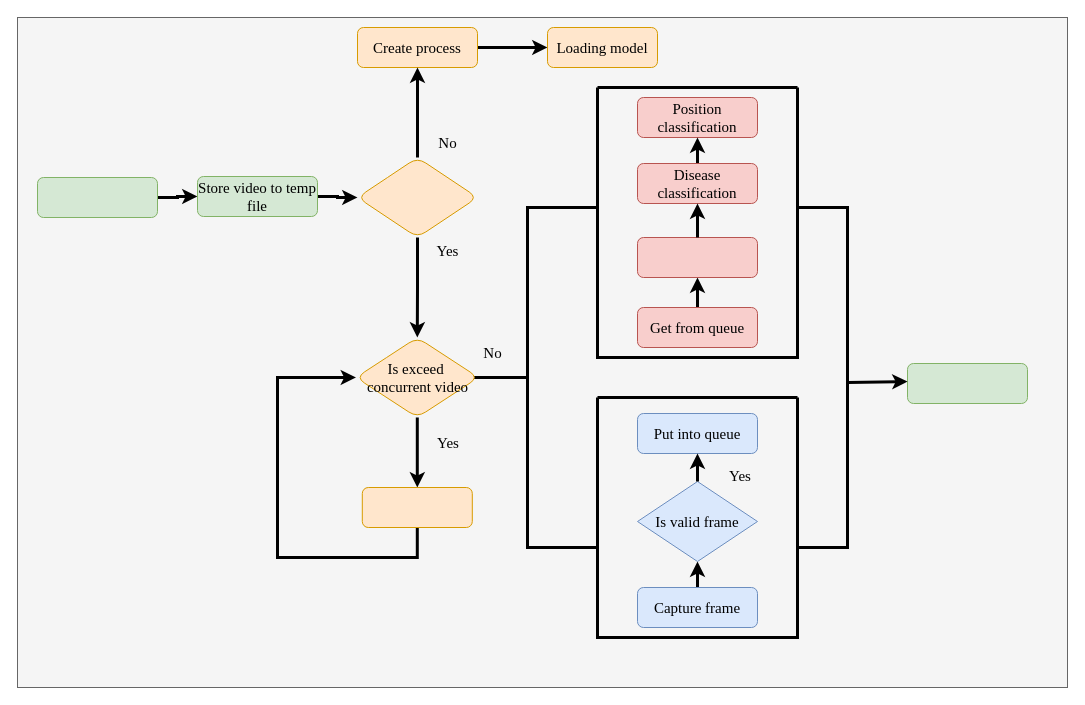
This 1085x705 diagram has some shape labels left out. The shapes that lost their labels are listed below. From the top down, each one's centre as x and y in pixels, then its label:
At point 97,197: "Upload video".
At point 417,197: "Have any process".
At point 697,257: "Create dataloader".
At point 967,383: "Cleaning temp file".
At point 416,507: "Waiting".
